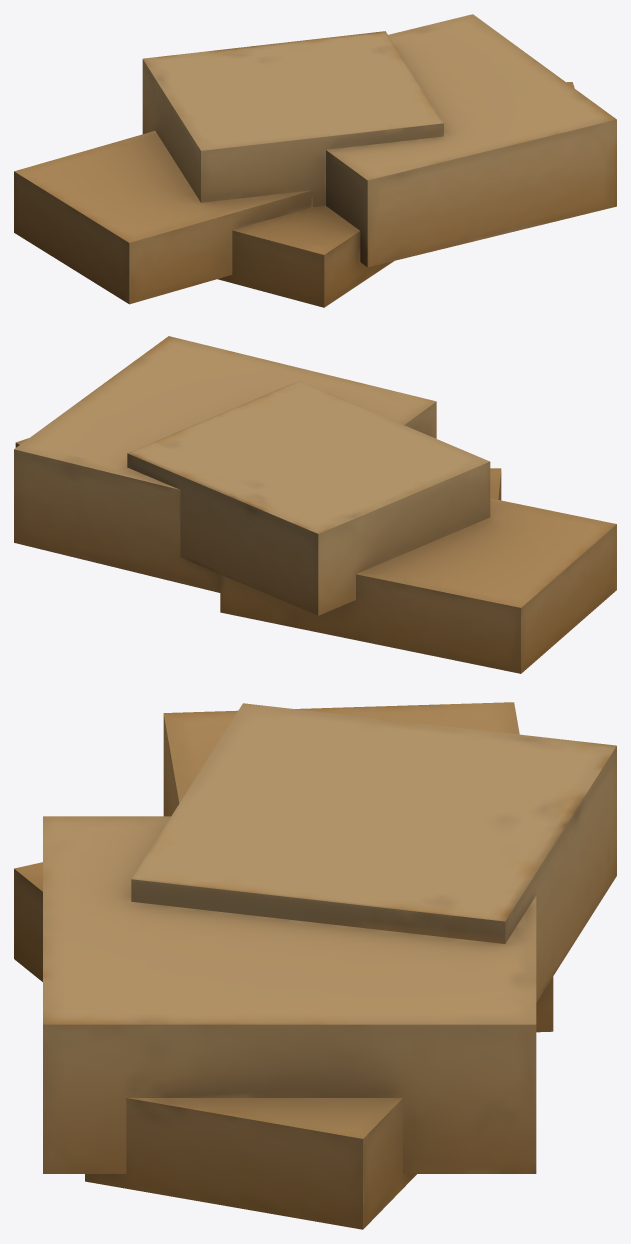
File: rocksmall_1.fbx
3 renders of one model, top to bottom at view 1: azimuth 30°, elevation 25°; view 2: azimuth 150°, elevation 25°; view 3: azimuth 270°, elevation 25°, orthographic. The views are drawn at different scales.
Parts seen in each view (by area): view 1: SM_rockpb_low; view 2: SM_rockpb_low; view 3: SM_rockpb_low.
Boxes of the visible parts, box(x1,y1,x2,y2) form: SM_rockpb_low: box(14, 14, 616, 307); SM_rockpb_low: box(14, 336, 616, 673); SM_rockpb_low: box(14, 702, 616, 1229).
Size of the model in its own units: 331 by 74.81 by 196.
1 material, 1 textured.
